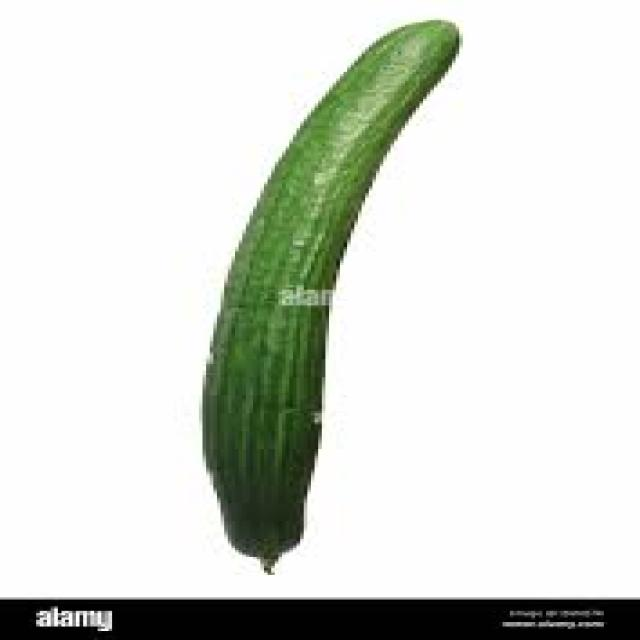cucumber: (199, 18, 459, 573)
